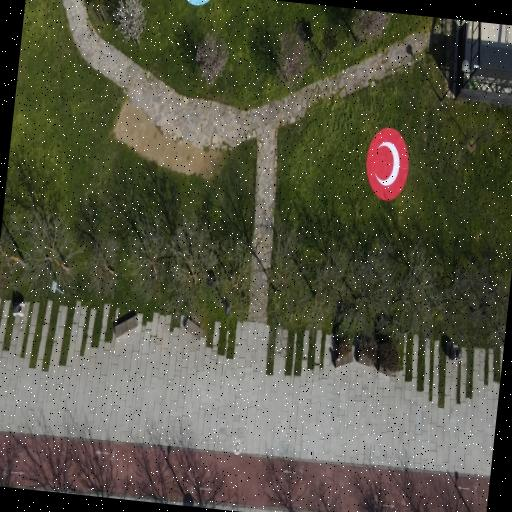UAP: (366, 128, 409, 201)
